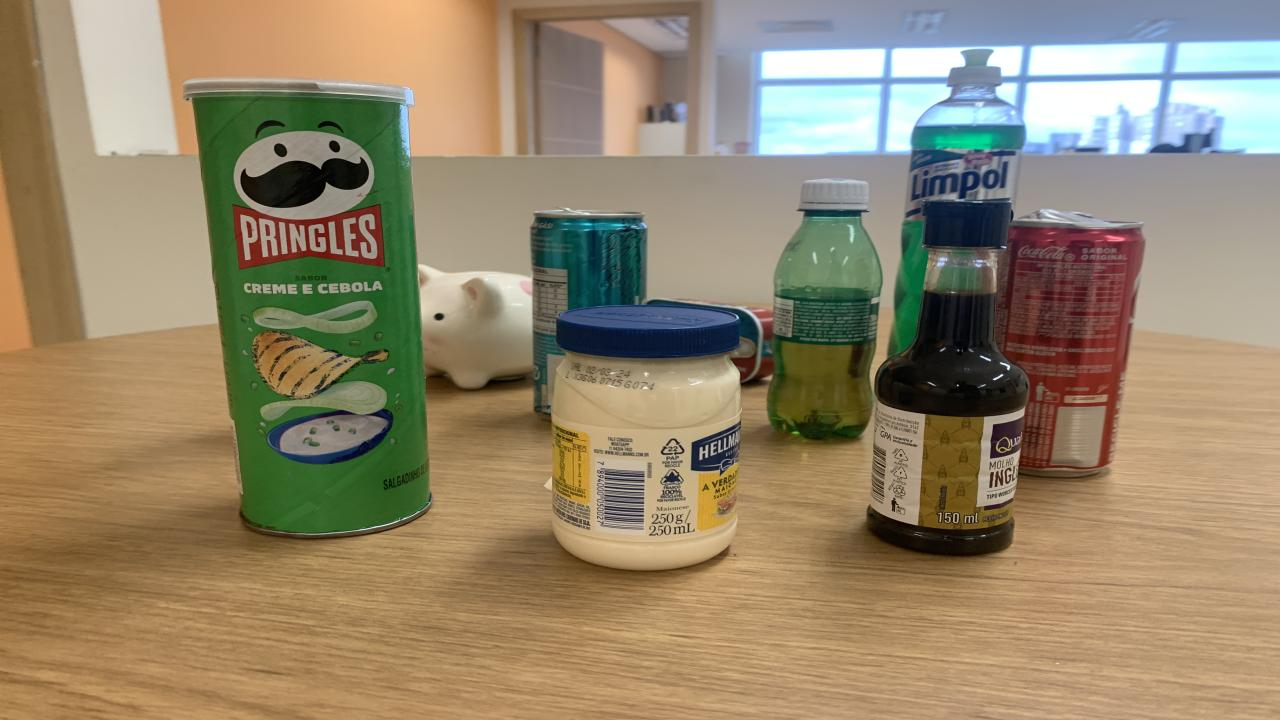Coke-Drinks: (995, 212, 1145, 476)
Detergent-Cleanup_Items: (888, 49, 1025, 356)
English_Sauce-Pantry_Items: (868, 201, 1028, 555)
Guarana-Drinks: (768, 180, 882, 439)
Mayonnaise-Pantry_Items: (552, 306, 740, 570)
Pig_Safe-Miscellaneous: (418, 264, 532, 390)
Pringles-Snacks: (185, 79, 432, 536)
Tea-Drinks: (530, 208, 648, 412)
Tuna_Can-Pantry_Items: (648, 298, 772, 382)
